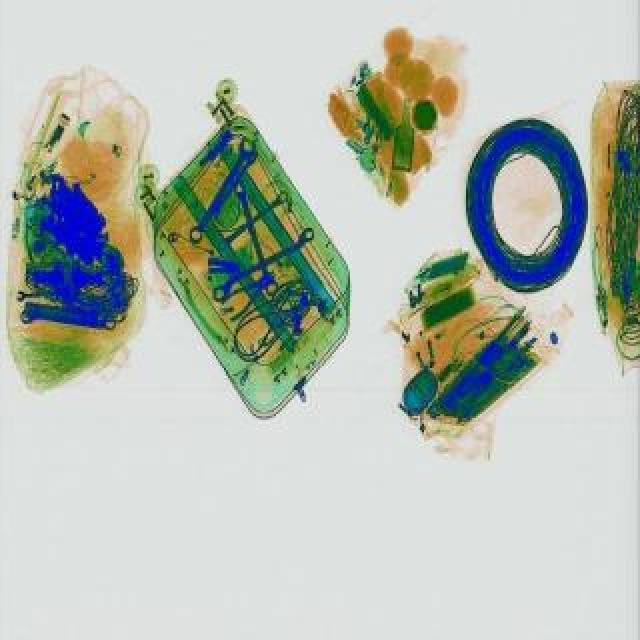scissors: (182, 138, 262, 250), (210, 228, 322, 308), (228, 182, 284, 298), (214, 192, 294, 256), (20, 314, 116, 332), (32, 228, 76, 264), (18, 290, 52, 306)
wrench: (218, 268, 284, 324)
